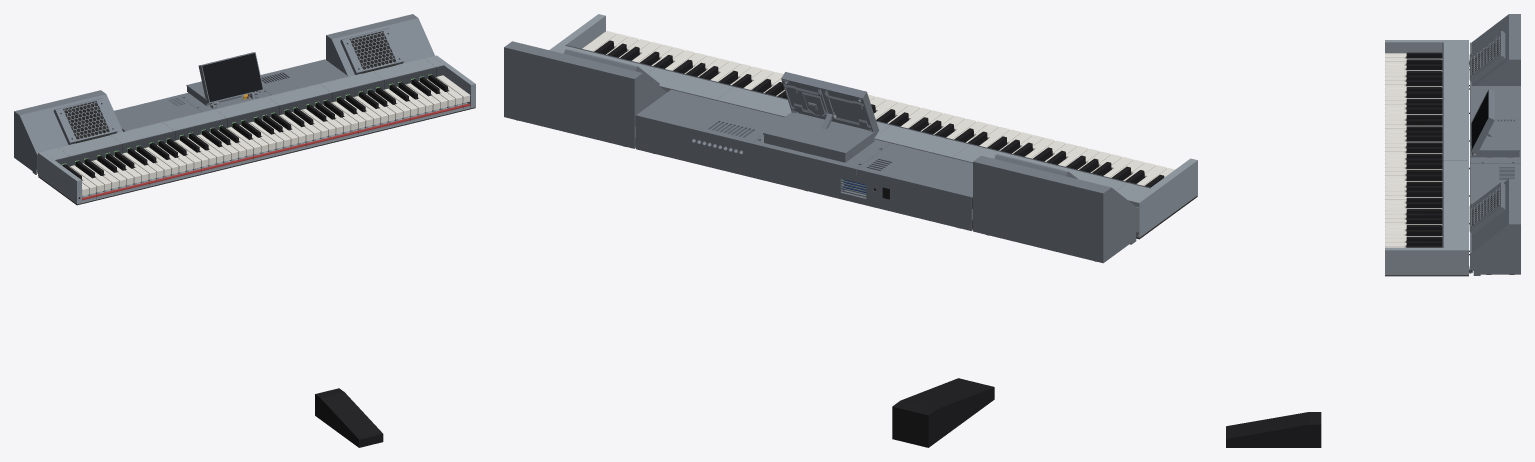
The model's file is toccata_viewer.glb.
3 renders of one model, left to right at view 1: azimuth 30°, elevation 25°; view 2: azimuth 150°, elevation 25°; view 3: azimuth 270°, elevation 25°, orthographic. The views are drawn at different scales.
Parts seen in each view (by area): view 1: PEDAL-DAMPER, TS-E-SCREEN, LID-R, LID-L, SPKL-BAFFLE, SPKR-BAFFLE, SPKR-GRILLE, SPKL-GRILLE, EL-FRAME, SPK-L, SPK-R, SPKL-PLY-SIDEOUT (+16 smaller); view 2: SPKL-PLY-BACK, SPKR-PLY-BACK, CU-PLY-BACK, LID-R, PEDAL-DAMPER, LID-L, TS-CRADLE, EL-FRAME, TS-SCREENCOVER, SPKL-PLY-SIDEOUT, CU-SCREENLID, O3-CAGE (+6 smaller); view 3: PEDAL-DAMPER, ER-FRAME, SPKR-PLY-SIDEOUT, LID-L, LID-R, SPKL-GRILLE, SPKR-GRILLE, TS-SCREENCOVER, SPKL-PLY-SIDEIN, EL-FRAME, SPKR-BAFFLE, O3-CAGE (+12 smaller).
Boxes of the visible parts, x1,y1,x2,y2 form: PEDAL-DAMPER: (315,388,383,447); TS-E-SCREEN: (202,53,262,101); LID-R: (260,59,348,95); LID-L: (114,95,201,131); SPKL-BAFFLE: (23,94,119,152); SPKR-BAFFLE: (335,18,431,75); SPKR-GRILLE: (340,28,404,74); SPKL-GRILLE: (53,98,117,144); EL-FRAME: (38,151,96,204); SPK-L: (63,102,110,143); SPK-R: (349,32,396,73); SPKL-PLY-SIDEOUT: (14,110,39,170); SPKL-PLY-BACK: (978,160,1100,261); SPKR-PLY-BACK: (509,46,631,147); CU-PLY-BACK: (636,121,972,230); LID-R: (636,89,783,148); PEDAL-DAMPER: (892,378,994,447); LID-L: (856,143,972,202); TS-CRADLE: (781,72,879,136); EL-FRAME: (1132,158,1197,237); TS-SCREENCOVER: (763,112,875,154); SPKL-PLY-SIDEOUT: (1098,186,1138,263); CU-SCREENLID: (751,134,890,174); O3-CAGE: (874,125,969,157); PEDAL-DAMPER: (1226,412,1321,447); ER-FRAME: (1385,247,1468,275); SPKR-PLY-SIDEOUT: (1470,222,1520,274); LID-L: (1470,86,1520,126); LID-R: (1470,163,1520,205); SPKL-GRILLE: (1469,31,1505,83); SPKR-GRILLE: (1469,182,1505,234); TS-SCREENCOVER: (1477,121,1519,151); SPKL-PLY-SIDEIN: (1472,58,1520,85); EL-FRAME: (1385,40,1468,53); SPKR-BAFFLE: (1471,180,1510,250); O3-CAGE: (1443,105,1468,133).
Size of the model in its own units: 1.25 by 0.9092 by 0.7425.
